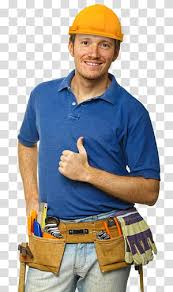hard hat: (69, 4, 123, 41)
